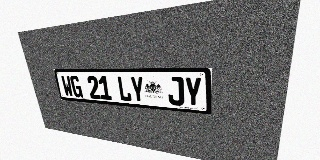1: (97, 76, 112, 100)
2: (86, 76, 101, 99)
G: (69, 76, 83, 98)
J: (167, 77, 184, 106)
L: (117, 76, 132, 102)
W: (60, 75, 74, 97)
Y: (184, 77, 202, 107), (129, 76, 145, 103)
